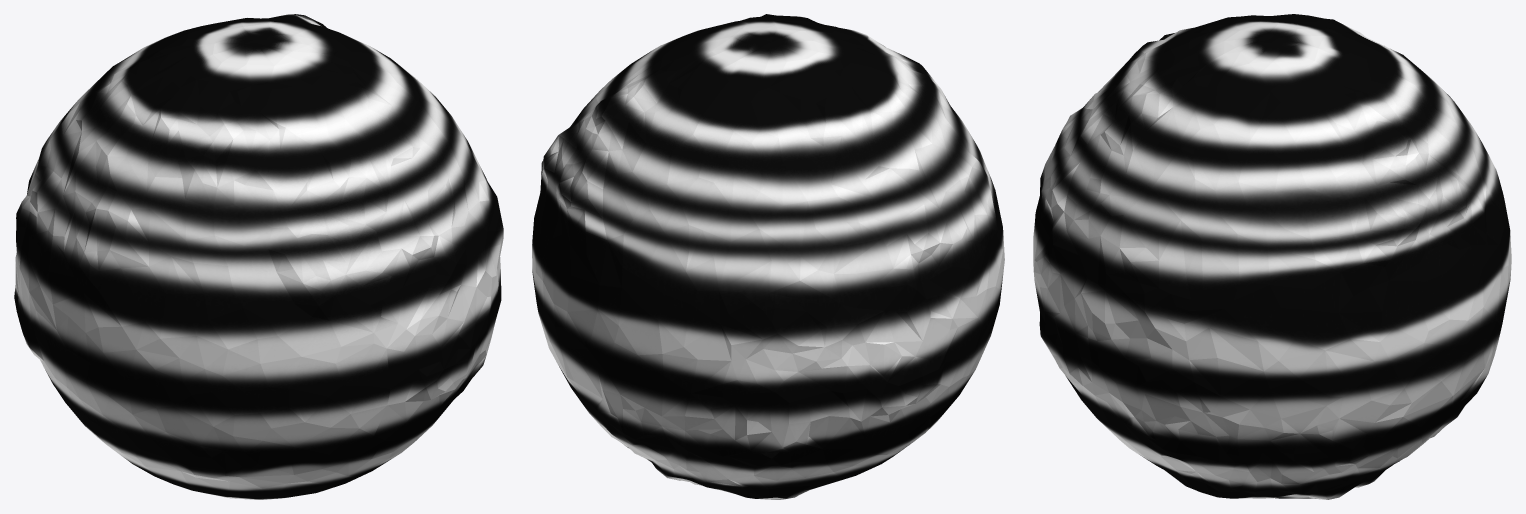
Rendered from SM_Env_Planet_11.fbx.
The picture shows the model from 3 angles, left to right: view 1: azimuth 30°, elevation 25°; view 2: azimuth 150°, elevation 25°; view 3: azimuth 270°, elevation 25°; orthographic projection.
Parts seen in each view (by area): view 1: SM_Env_Planet_11_LOD0; view 2: SM_Env_Planet_11_LOD0; view 3: SM_Env_Planet_11_LOD0.
Part boxes in pixels (<box>): SM_Env_Planet_11_LOD0: <box>14,14,503,499</box>; SM_Env_Planet_11_LOD0: <box>532,14,1004,499</box>; SM_Env_Planet_11_LOD0: <box>1033,14,1511,499</box>.
Bounding box in the file's own units: 41979 × 41971 × 42043.
Materials: 1 (1 with a texture image).
